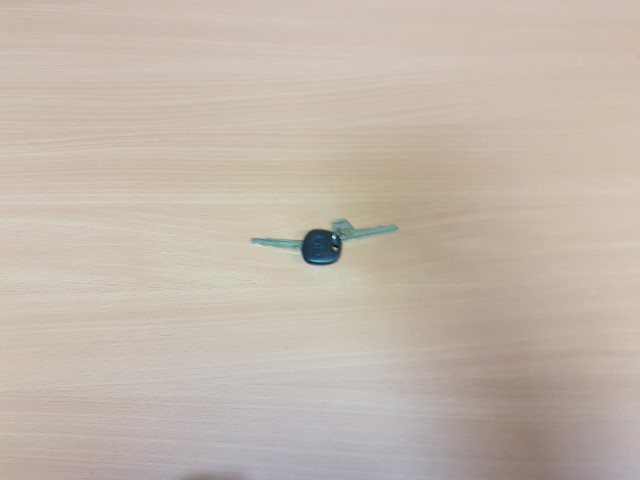key: (252, 229, 341, 265)
